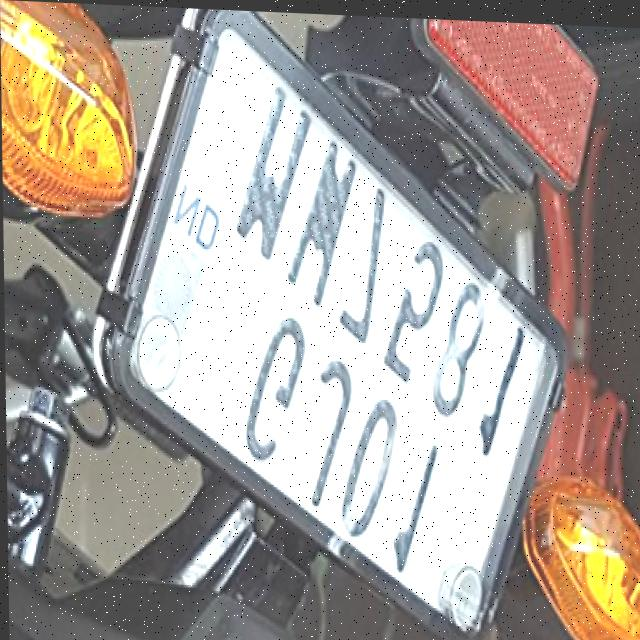plate: (92, 3, 571, 640)
